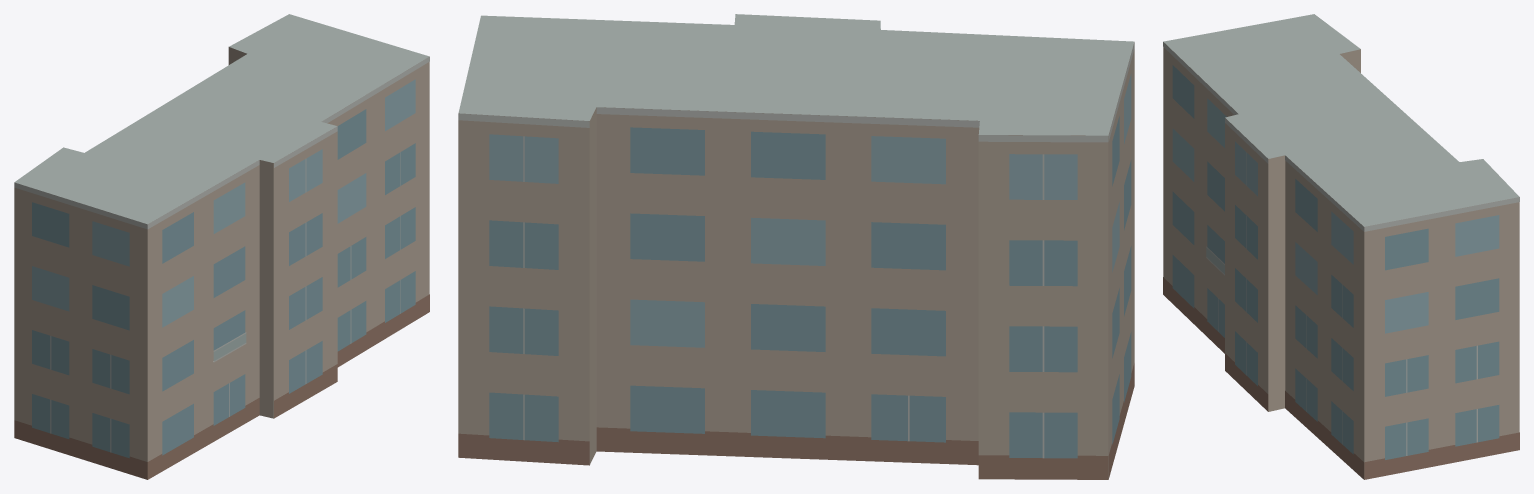
File: survey-upis-32466069.glb
3 views of the same model, side by side, from view 1: azimuth 30°, elevation 25°; view 2: azimuth 150°, elevation 25°; view 3: azimuth 270°, elevation 25° (orthographic). The views are drawn at different scales.
Parts seen in each view (by area): view 1: survey-upis-32466069.tmp; view 2: survey-upis-32466069.tmp; view 3: survey-upis-32466069.tmp.
Part boxes in pixels (x1,y1,x2,y2): survey-upis-32466069.tmp: [14, 14, 429, 479]; survey-upis-32466069.tmp: [458, 14, 1134, 479]; survey-upis-32466069.tmp: [1163, 14, 1519, 479].
Size of the model in its own units: 22.02 by 12.2 by 15.59.
